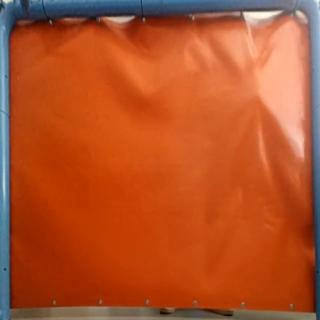Hit-hRxx: (253, 87, 267, 103)
